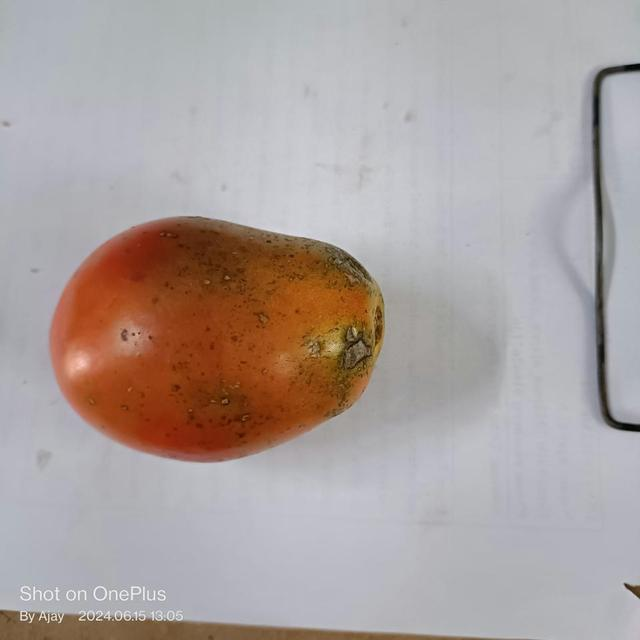Bacterial Spot Fruit: (26, 20, 237, 234)
